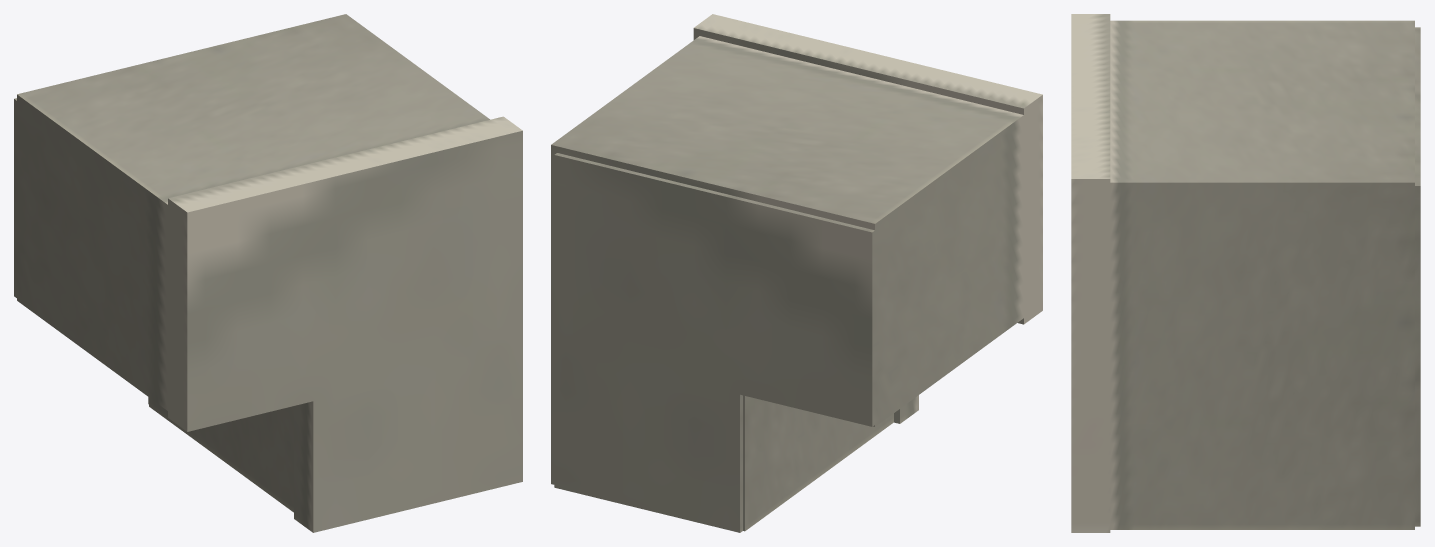
The model's file is pz_counter_white_corner.obj.
The picture shows the model from 3 angles, left to right: view 1: azimuth 30°, elevation 25°; view 2: azimuth 150°, elevation 25°; view 3: azimuth 270°, elevation 25°; orthographic projection. The views are drawn at different scales.
Bounding box in the file's own units: 1 × 1 × 0.895.
1 material, 1 textured.
